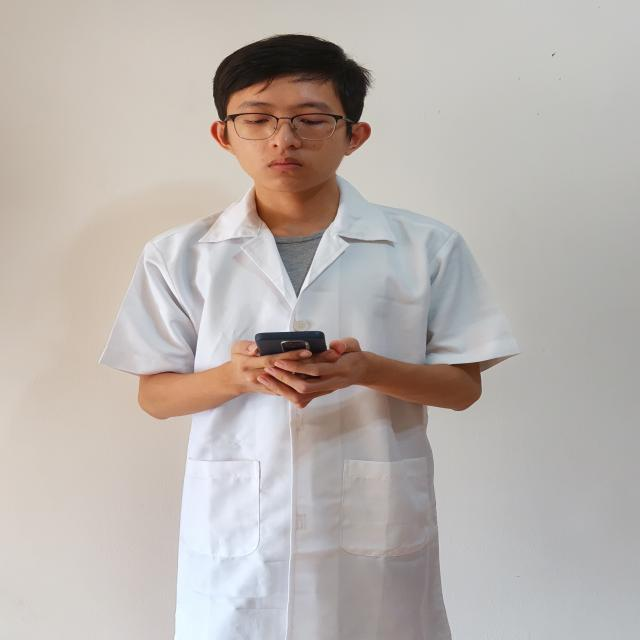person_with_labcoat: (100, 35, 519, 640)
